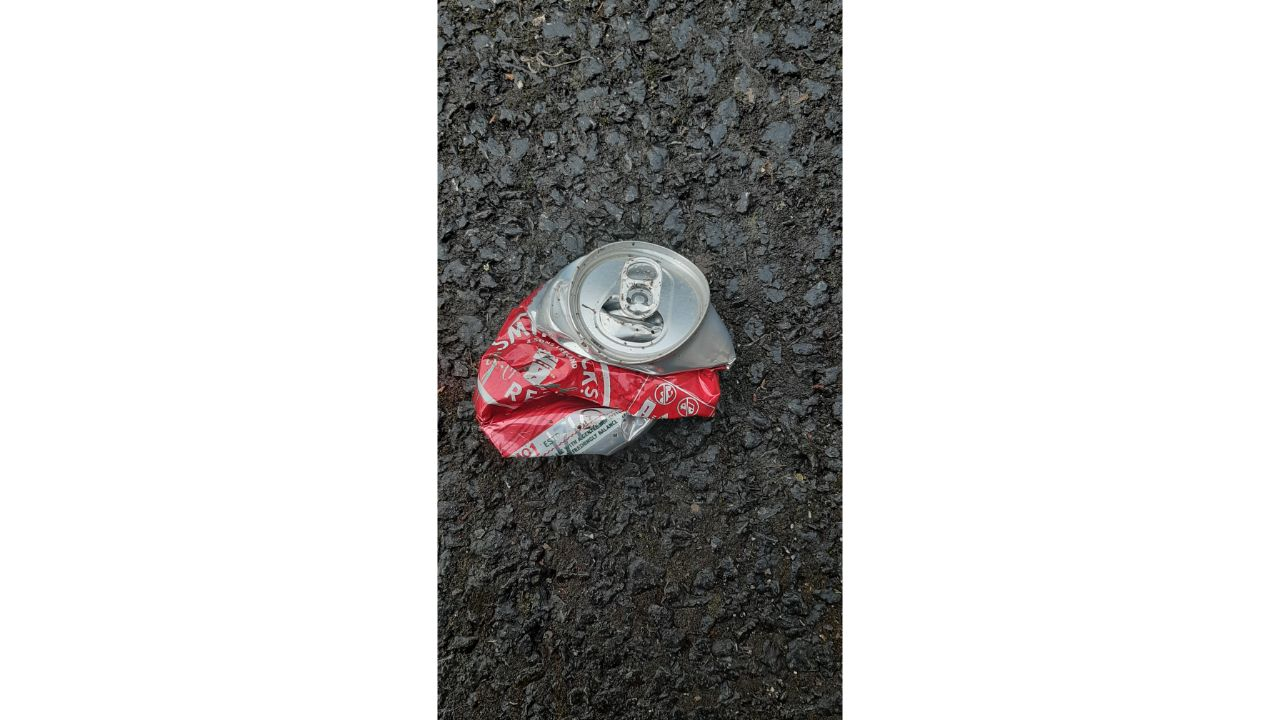Can: (471, 240, 738, 459)
